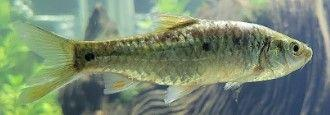Black Spotted Barb: (12, 10, 314, 109)
